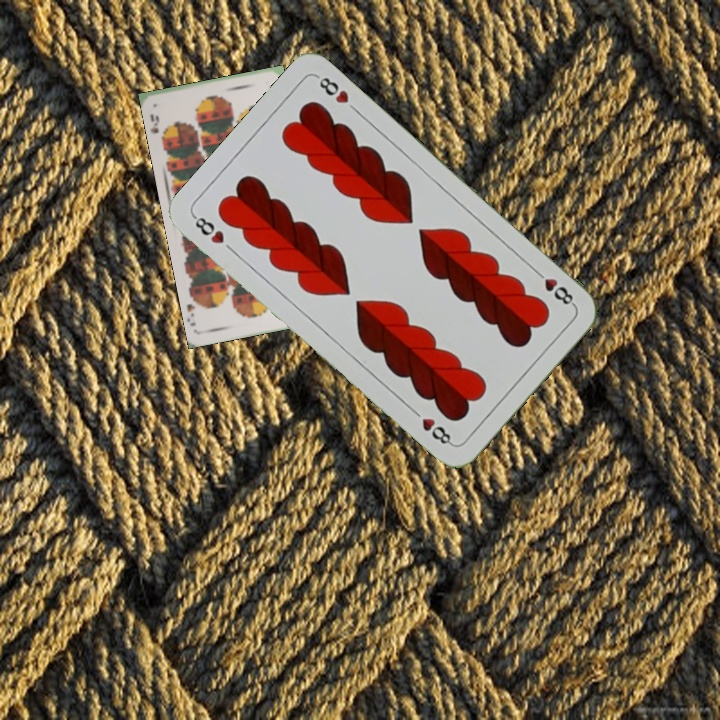H8: (529, 264, 577, 308), (189, 211, 229, 247)
S9: (146, 110, 168, 145)
